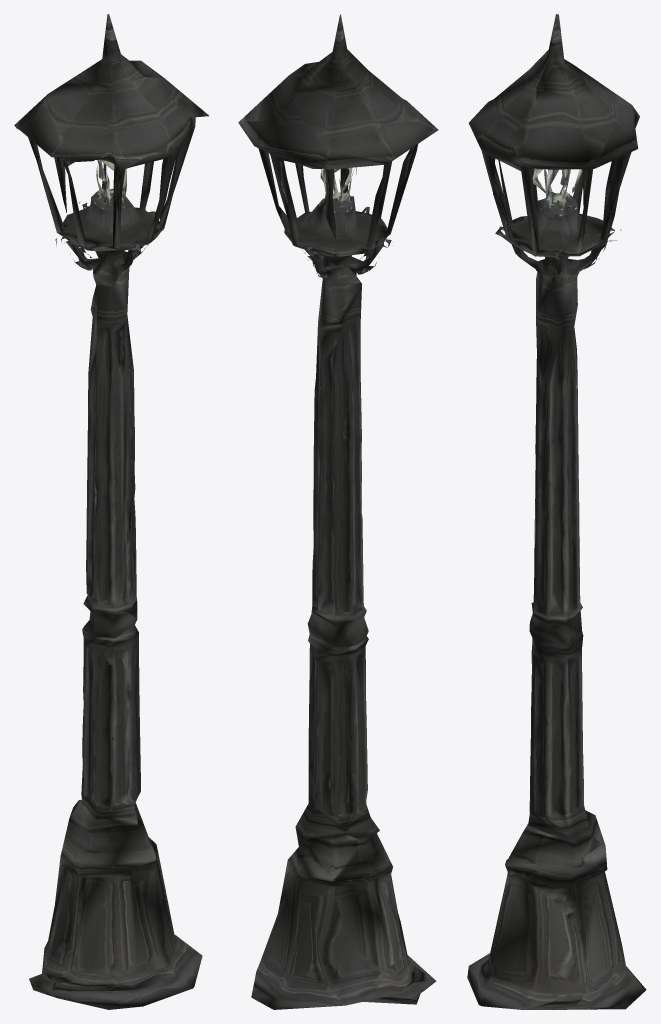
File: lamppost3_lod1.glb
3 renders of one model, left to right at view 1: azimuth 30°, elevation 25°; view 2: azimuth 150°, elevation 25°; view 3: azimuth 270°, elevation 25°, orthographic.
Parts seen in each view (by area): view 1: tripo_node_581adf6e-751c-41fa-b681-661e507ea7ff; view 2: tripo_node_581adf6e-751c-41fa-b681-661e507ea7ff; view 3: tripo_node_581adf6e-751c-41fa-b681-661e507ea7ff.
Part boxes in pixels (x1,y1,x2,y2): tripo_node_581adf6e-751c-41fa-b681-661e507ea7ff: [14, 14, 208, 1009]; tripo_node_581adf6e-751c-41fa-b681-661e507ea7ff: [238, 14, 438, 1009]; tripo_node_581adf6e-751c-41fa-b681-661e507ea7ff: [467, 14, 646, 1009].
Size of the model in its own units: 0.4394 by 2.5 by 0.4196.
1 material, 1 textured.
